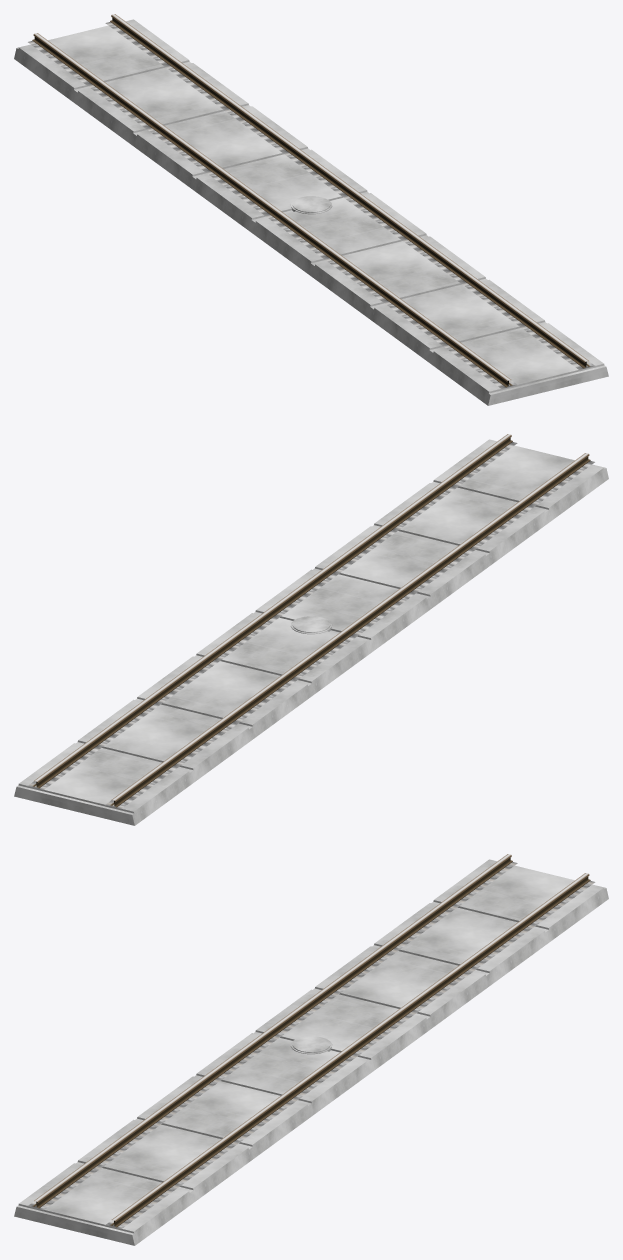
File: HT_1RAIL_KONKURI50.glb
3 views of the same model, one above another, from view 1: azimuth 30°, elevation 25°; view 2: azimuth 150°, elevation 25°; view 3: azimuth 330°, elevation 25° (orthographic).
Visible parts, largest first — view 1: obj6, obj1; view 2: obj6, obj1; view 3: obj6, obj1.
Boxes of the visible parts, x1,y1,x2,y2 form: obj6: (14,14,608,405); obj1: (290,196,332,214); obj6: (14,434,608,825); obj1: (290,616,332,634); obj6: (14,854,608,1245); obj1: (290,1036,332,1054).
Size of the model in its own units: 7.36 by 1.19 by 50.
Materials: 5 (5 with a texture image).
